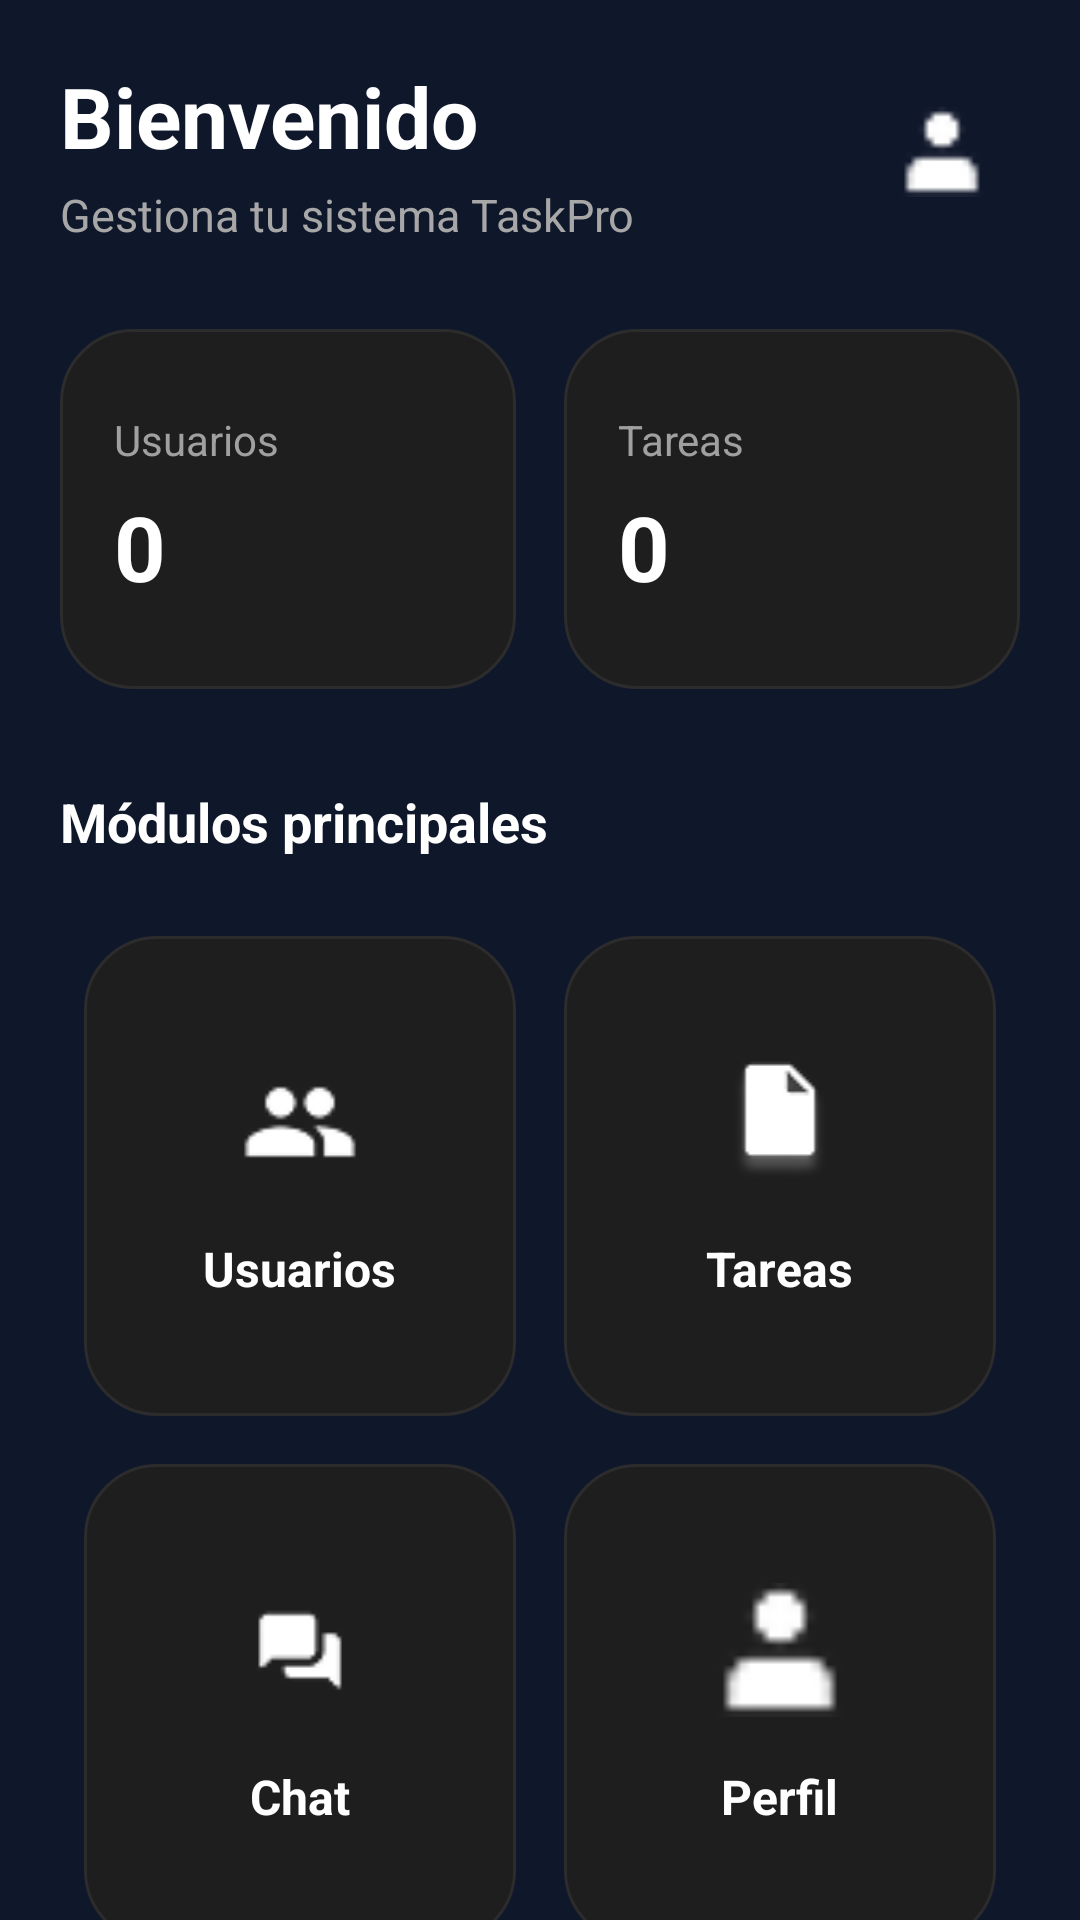

Icons on this 1080×1920 Android screen, each with its box as (x1, y1, x2, y2):
profile: (904, 111, 980, 193), (724, 1588, 836, 1712)
users: (244, 1086, 356, 1158)
